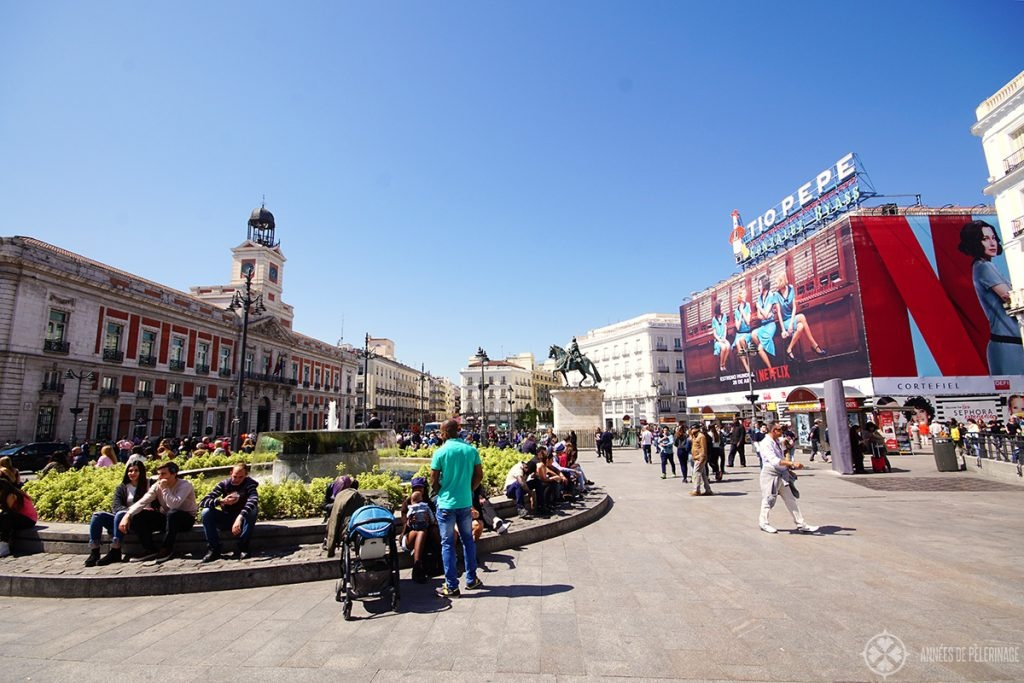person: (428, 417, 486, 596), (967, 221, 1022, 369), (124, 460, 199, 561), (85, 456, 152, 565), (755, 420, 810, 532), (198, 460, 258, 560), (400, 478, 442, 584), (321, 466, 365, 556), (0, 468, 43, 557), (528, 448, 580, 514), (687, 422, 713, 495), (698, 419, 723, 490), (729, 208, 750, 266), (724, 418, 746, 469), (658, 427, 678, 479), (675, 426, 693, 482), (596, 426, 614, 462), (639, 422, 654, 462), (96, 442, 116, 468)
